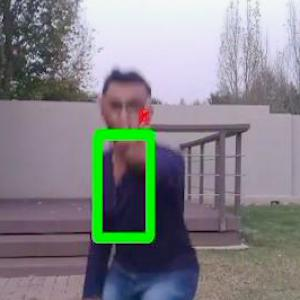takeoff-hand: (94, 81, 168, 157)
